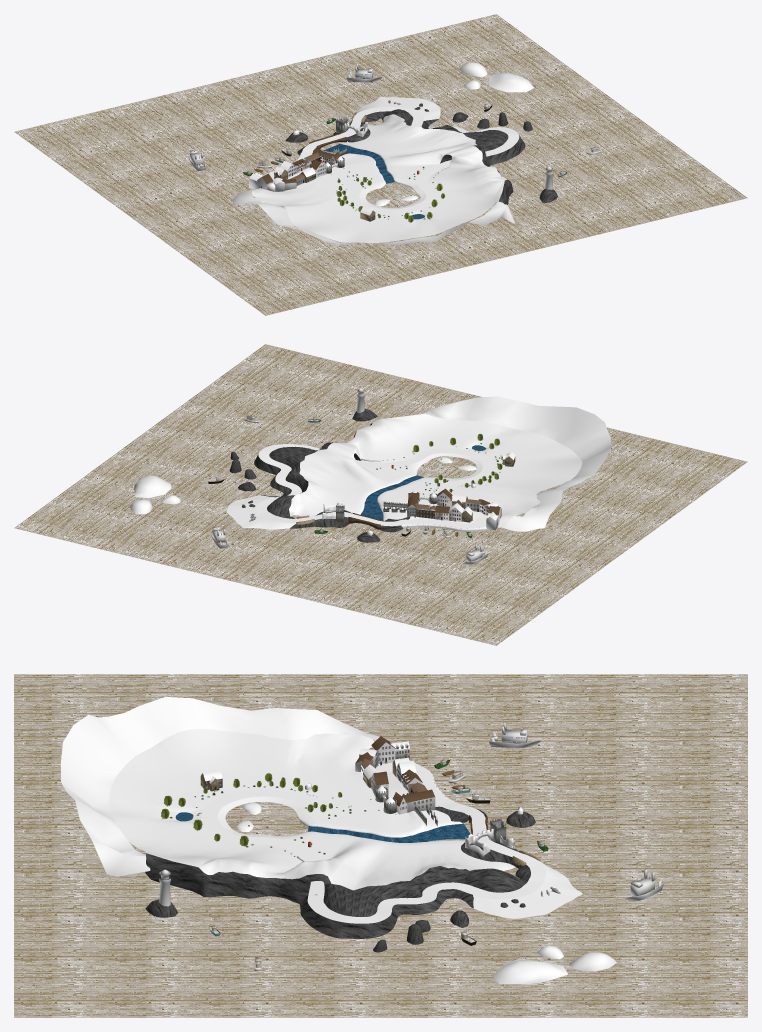
Rendered from scotland_track.glb.
3 renders of one model, top to bottom at view 1: azimuth 30°, elevation 25°; view 2: azimuth 150°, elevation 25°; view 3: azimuth 270°, elevation 25°, orthographic. The views are drawn at different scales.
Visible parts, largest first — view 1: seabed.jpg__, stk_generic_grassA.png__, rock_grey.jpg__, city_asphalt_1.jpg__, sand2.jpg__, ___, brick1.jpg__, water_dark.jpg__; view 2: seabed.jpg__, stk_generic_grassA.png__, rock_grey.jpg__, city_asphalt_1.jpg__, sand2.jpg__, ___, water_dark.jpg__, brick1.jpg__, Paving_stones_2.jpg__, leaves2.png__; view 3: seabed.jpg__, stk_generic_grassA.png__, rock_grey.jpg__, city_asphalt_1.jpg__, sand2.jpg__, ___, water_dark.jpg__, brick1.jpg__, leaves2.png__, HortonStone6.jpg__, HortonStone7.jpg__, tiles.png__.
Part boxes in pixels (x1,y1,x2,y2): seabed.jpg__: (14,14,747,315); stk_generic_grassA.png__: (231,62,533,245); rock_grey.jpg__: (285,103,557,204); city_asphalt_1.jpg__: (269,107,519,213); sand2.jpg__: (356,97,440,120); ___: (189,63,599,190); brick1.jpg__: (262,133,346,184); water_dark.jpg__: (323,144,424,219); seabed.jpg__: (14,344,747,645); stk_generic_grassA.png__: (130,396,611,531); rock_grey.jpg__: (229,408,410,542); city_asphalt_1.jpg__: (256,444,494,528); sand2.jpg__: (226,495,295,529); ___: (208,388,488,565); water_dark.jpg__: (360,445,486,520); brick1.jpg__: (348,488,500,529); Paving_stones_2.jpg__: (401,502,490,531); leaves2.png__: (413,434,502,492); seabed.jpg__: (14,674,747,1017); stk_generic_grassA.png__: (60,697,616,984); rock_grey.jpg__: (145,806,535,952); city_asphalt_1.jpg__: (201,764,546,923); sand2.jpg__: (473,862,582,918); ___: (159,722,663,941); water_dark.jpg__: (175,812,470,842); brick1.jpg__: (356,736,488,834); leaves2.png__: (161,773,342,846); HortonStone6.jpg__: (372,742,514,856); HortonStone7.jpg__: (375,787,506,841); tiles.png__: (203,747,422,789).
Size of the model in its own units: 851 by 65.7 by 768.
Materials: 49 (33 with a texture image).
